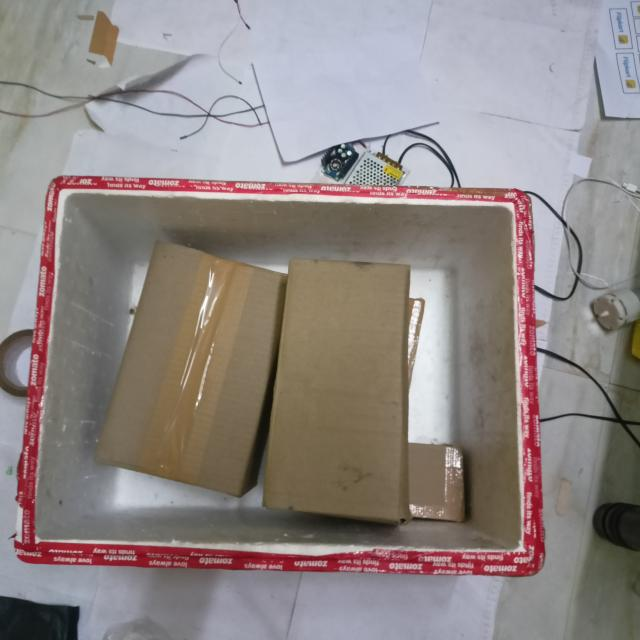box: (92, 241, 291, 500), (262, 258, 415, 520)
